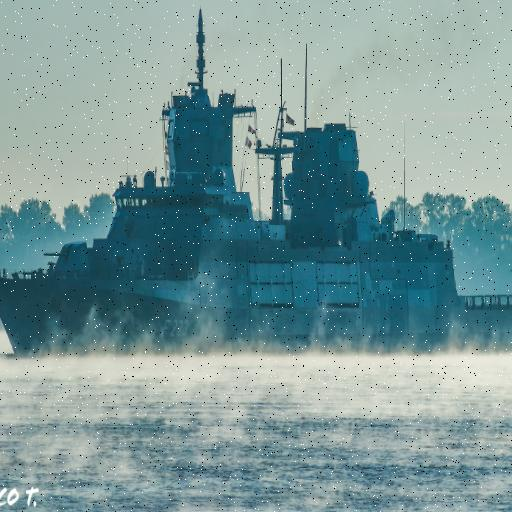Fragata: (1, 8, 512, 362)
